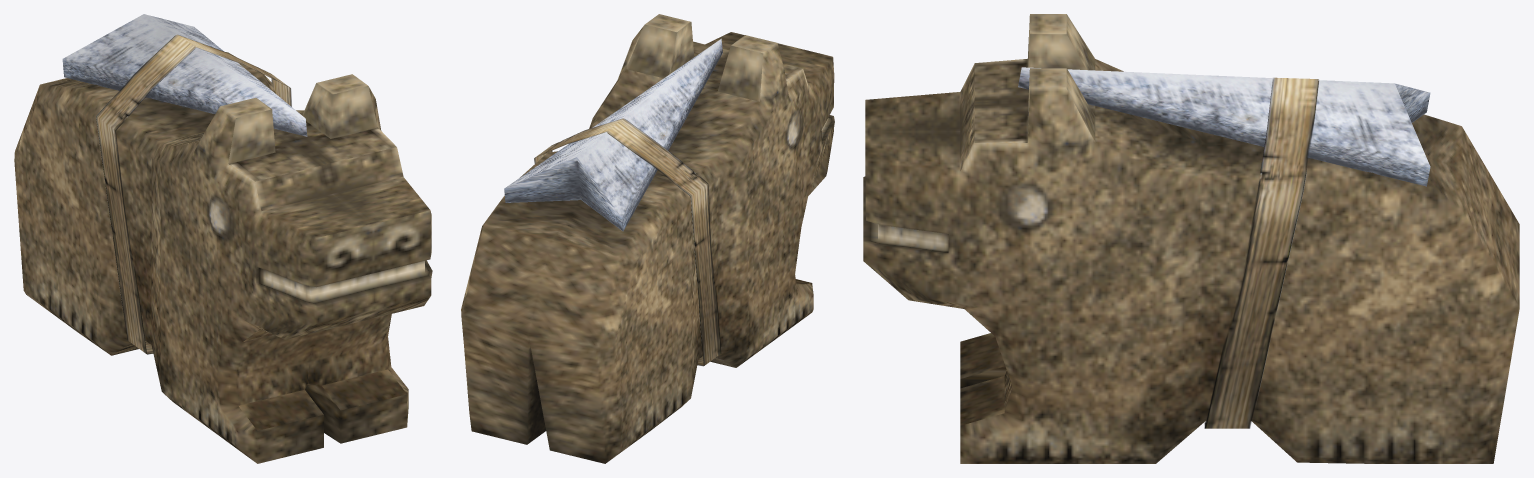
The picture shows the model from 3 angles, left to right: view 1: azimuth 30°, elevation 25°; view 2: azimuth 150°, elevation 25°; view 3: azimuth 270°, elevation 25°; orthographic projection. The views are drawn at different scales.
Parts seen in each view (by area): view 1: bear, arrowhead, pCube03; view 2: bear, arrowhead, pCube03; view 3: bear, arrowhead, pCube03.
Part boxes in pixels (box(x1,y1,x2,y2)): bear: box(14, 52, 432, 463); arrowhead: box(62, 14, 307, 136); pCube03: box(96, 34, 291, 354); bear: box(461, 14, 834, 463); arrowhead: box(504, 38, 722, 231); pCube03: box(534, 118, 721, 366); bear: box(863, 14, 1519, 463); arrowhead: box(1018, 67, 1430, 186); pCube03: box(1204, 77, 1319, 428).
Bounding box in the file's own units: 50.64 × 88.79 × 143.
Materials: 3 (3 with a texture image).
